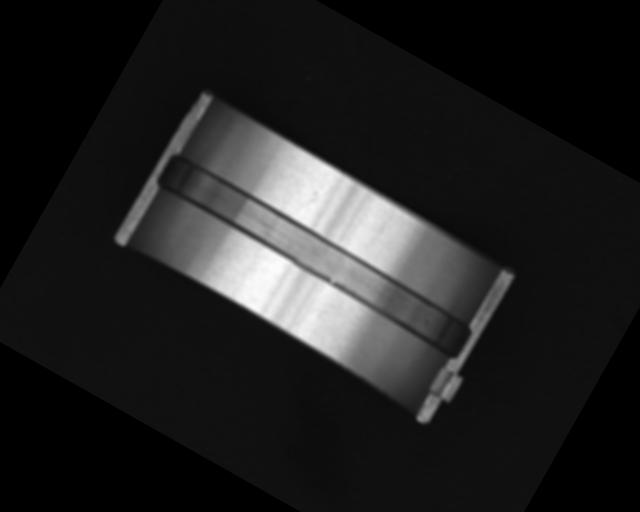gap: (150, 148, 477, 360)
nick: (368, 212, 393, 245)
